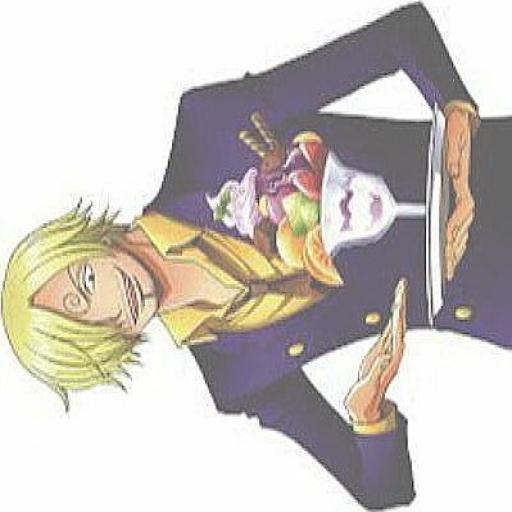sanji: (0, 1, 511, 509)
